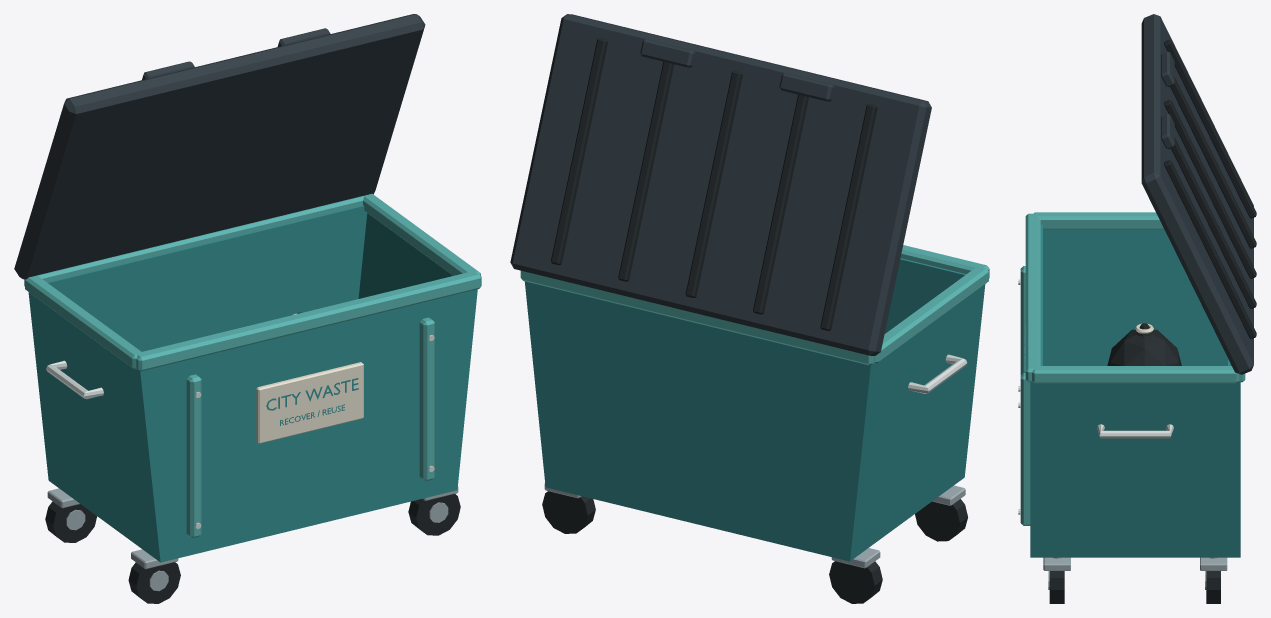
The model's file is Dumpster_Open_Detailed.glb.
3 renders of one model, left to right at view 1: azimuth 30°, elevation 25°; view 2: azimuth 150°, elevation 25°; view 3: azimuth 270°, elevation 25°, orthographic. The views are drawn at different scales.
Parts seen in each view (by area): view 1: Dumpster_Open_Detailed; view 2: Dumpster_Open_Detailed; view 3: Dumpster_Open_Detailed.
Boxes of the visible parts, bbox=[...] form: Dumpster_Open_Detailed: bbox=[14, 14, 481, 603]; Dumpster_Open_Detailed: bbox=[510, 14, 989, 603]; Dumpster_Open_Detailed: bbox=[1018, 14, 1256, 603].
Size of the model in its own units: 1.78 by 2.13 by 1.04.
